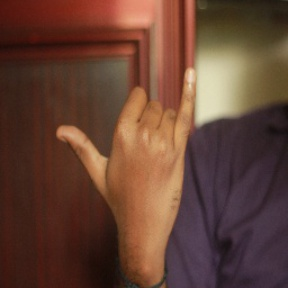J: (53, 61, 202, 215)
